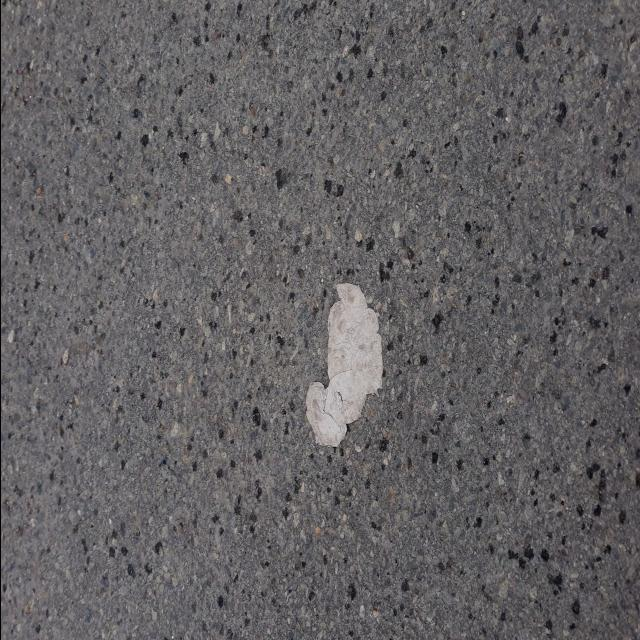Tissues: (304, 283, 382, 447)
